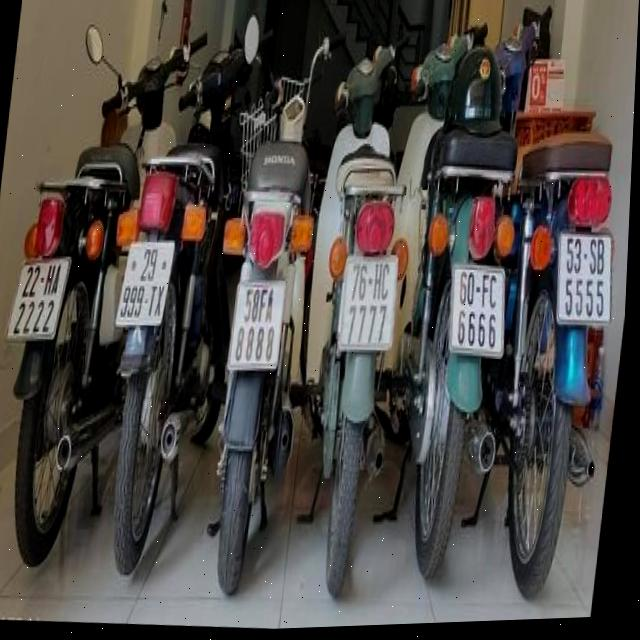motorcycle: (74, 16, 254, 595), (372, 23, 549, 603), (269, 11, 439, 614), (472, 25, 638, 597), (189, 23, 338, 606), (0, 140, 153, 576), (330, 241, 404, 367)
plate: (547, 219, 621, 333), (332, 243, 402, 360), (3, 242, 73, 354), (224, 265, 291, 380), (443, 255, 512, 363), (111, 231, 177, 342)
